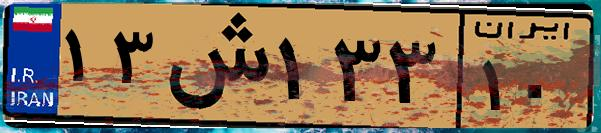0: (525, 38, 570, 115)
1: (270, 28, 330, 110), (57, 26, 110, 100), (475, 38, 525, 113)
3: (385, 28, 445, 110), (330, 28, 385, 110), (110, 28, 158, 98)
ش: (158, 12, 270, 120)
